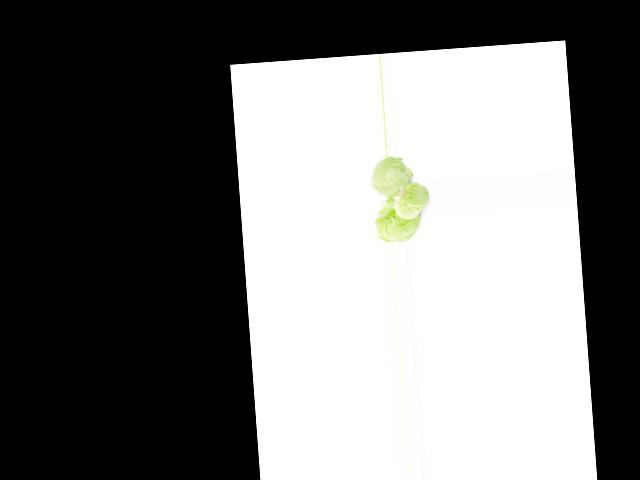lettuce: (376, 202, 418, 241)
